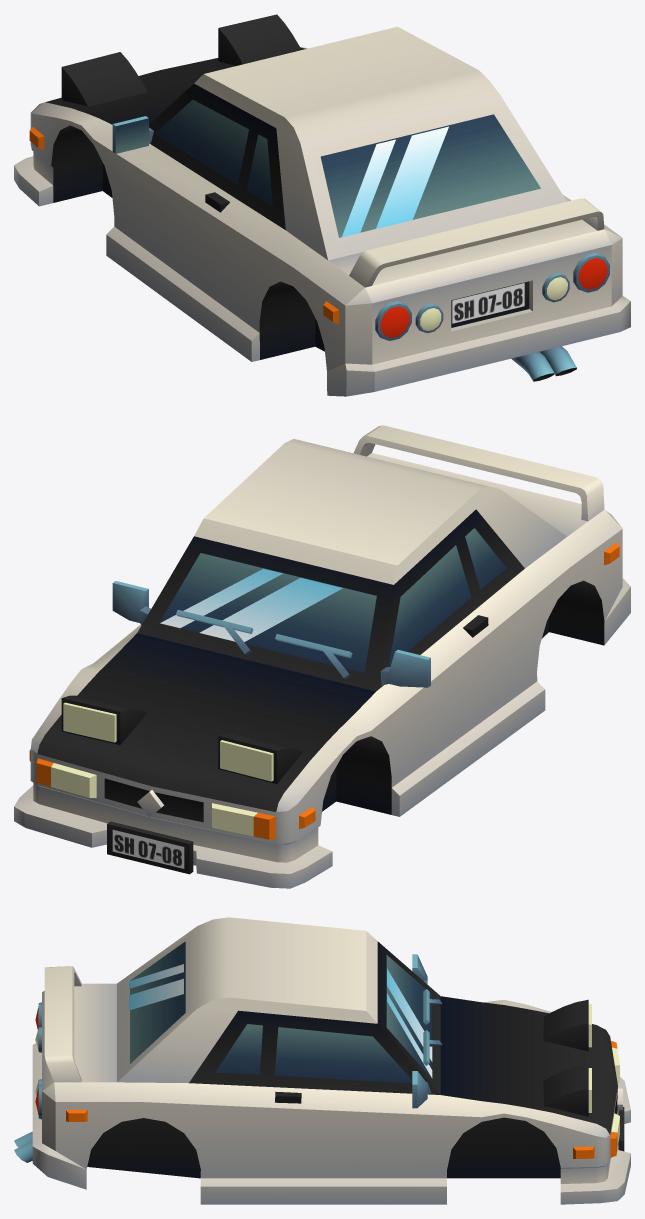
The model's file is car16.glb.
The picture shows the model from 3 angles, top to bottom: view 1: azimuth 30°, elevation 25°; view 2: azimuth 150°, elevation 25°; view 3: azimuth 270°, elevation 25°; orthographic projection. The views are drawn at different scales.
Parts seen in each view (by area): view 1: model_9; view 2: model_9; view 3: model_9.
Part boxes in pixels (x1,y1,x2,y2): model_9: (14, 14, 630, 396); model_9: (14, 425, 630, 888); model_9: (14, 917, 630, 1204).
Size of the model in its own units: 150 by 103 by 299.
1 material, 1 textured.
